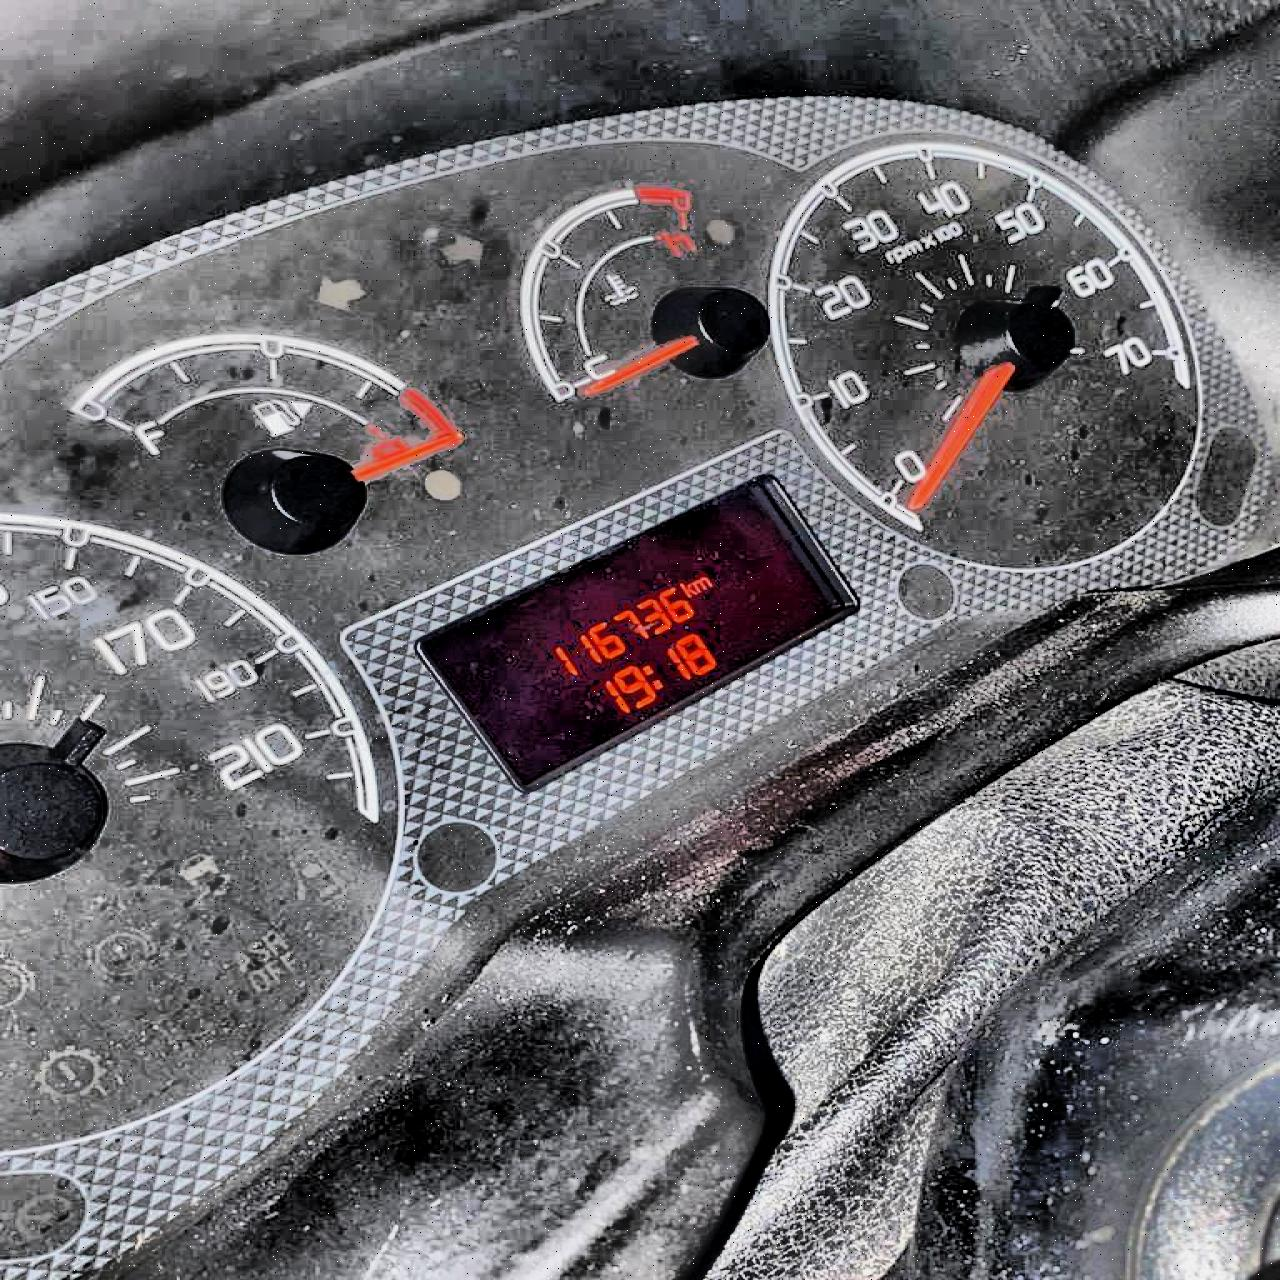1: (665, 646, 690, 679), (604, 680, 628, 713), (551, 645, 577, 675), (578, 633, 601, 662)
3: (635, 598, 672, 633)
6: (587, 621, 625, 659), (656, 586, 693, 622)
7: (612, 610, 647, 639)
8: (673, 633, 715, 675)
9: (612, 665, 655, 709)
X: (640, 663, 662, 690), (692, 577, 710, 592), (679, 583, 695, 598)
odometer: (410, 470, 863, 794)
